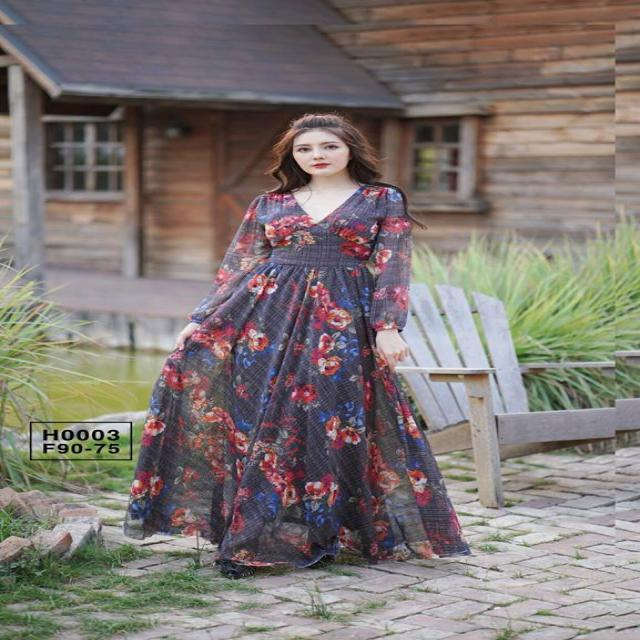clothes: (142, 182, 468, 569)
